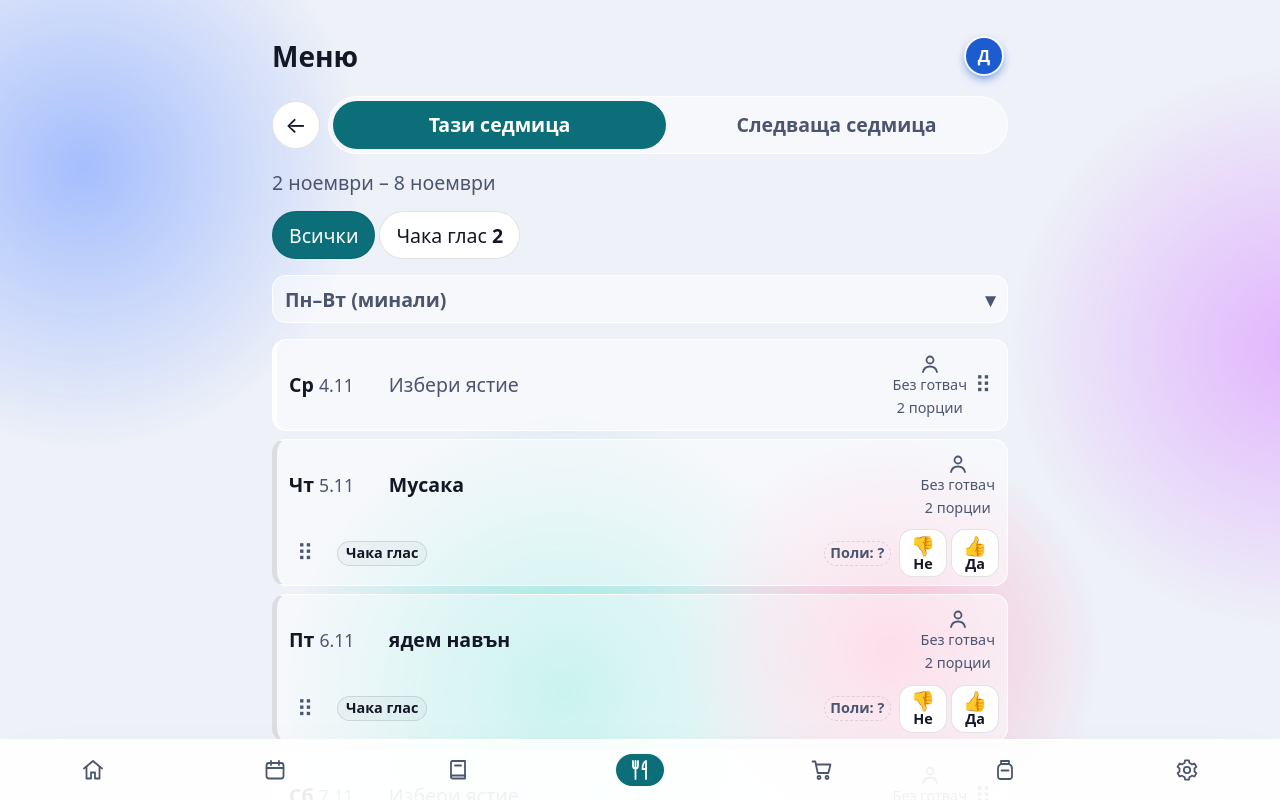
Test: MealSheet: „🛒 Добави в списъка“ (ADR-0011) › няма бутон за ястие само с бележка
This screenshot has width=1280, height=800.
Click the button "пт 6.11 ядем навън Без готвач 2 порции".
click(337, 640)  # box 277,595 -> 1007,685
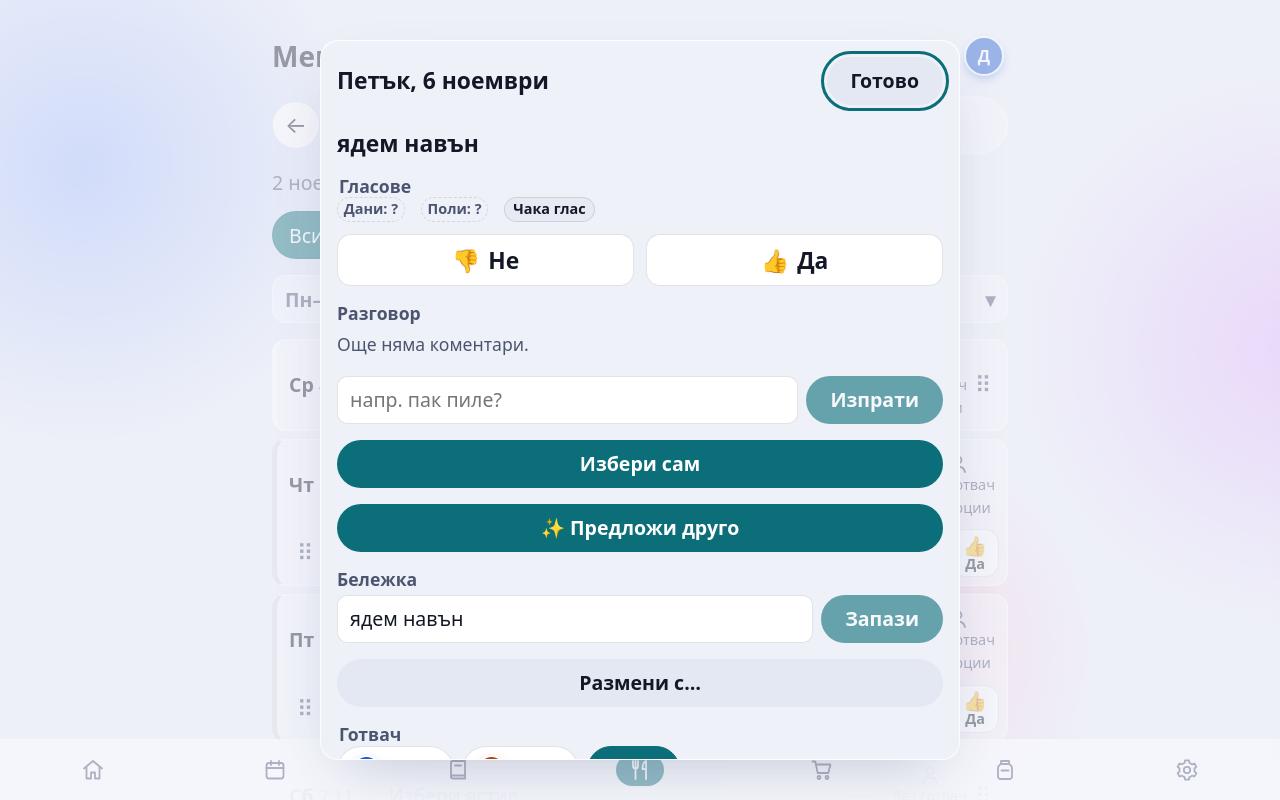
expect the heading "ядем навън" is shown: met, box 337,128 -> 479,159
